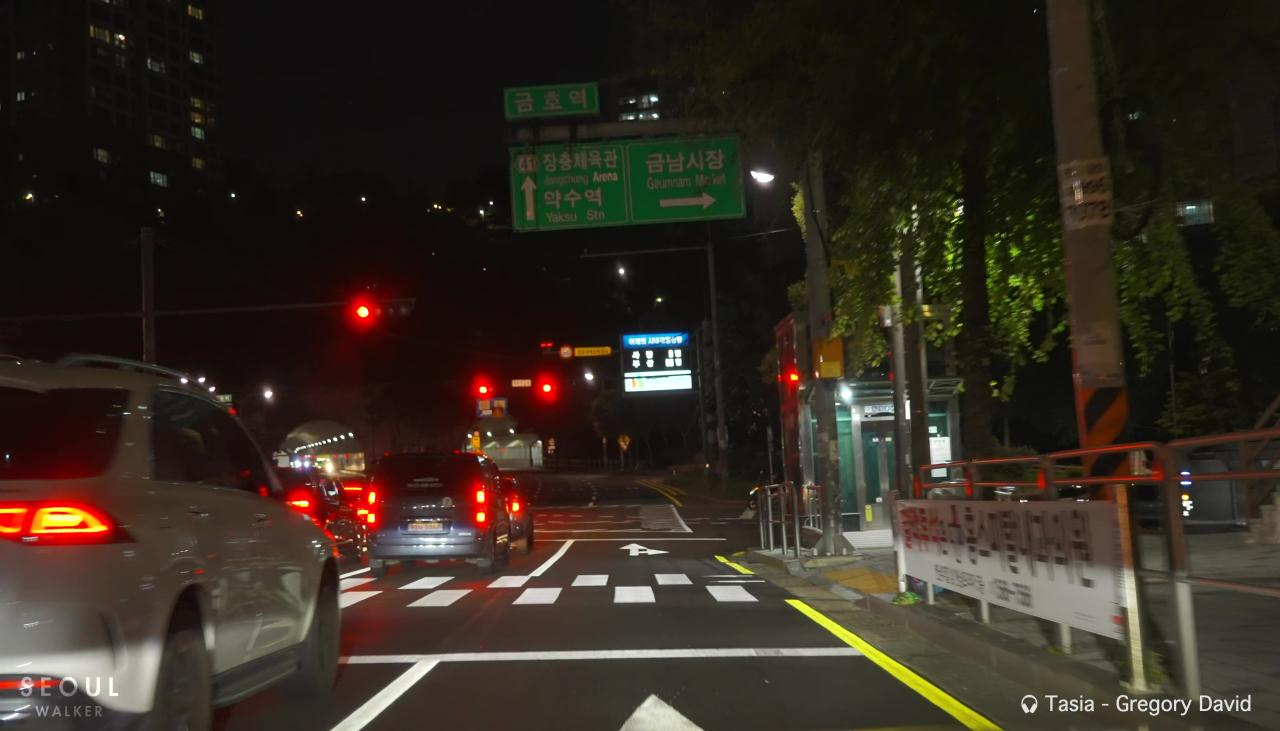Red Light: (356, 302, 370, 320), (541, 382, 553, 394), (478, 385, 487, 395)
